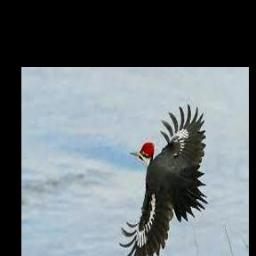Woodpecker: (118, 103, 208, 256)
